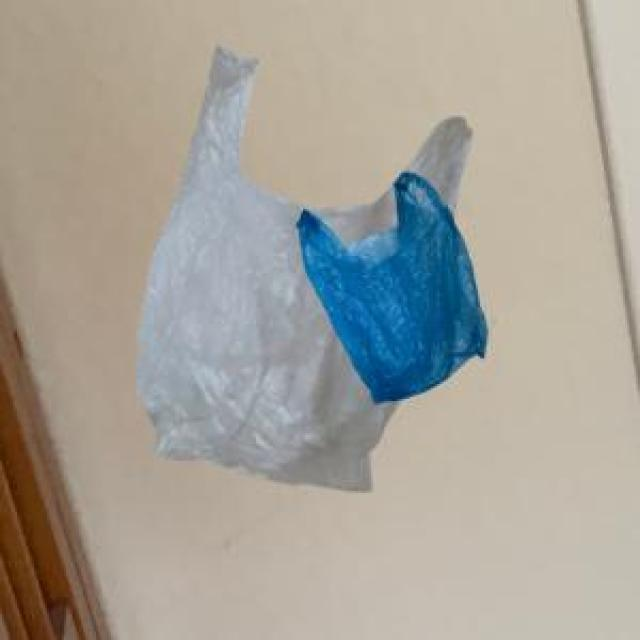waste: (139, 48, 488, 489)
